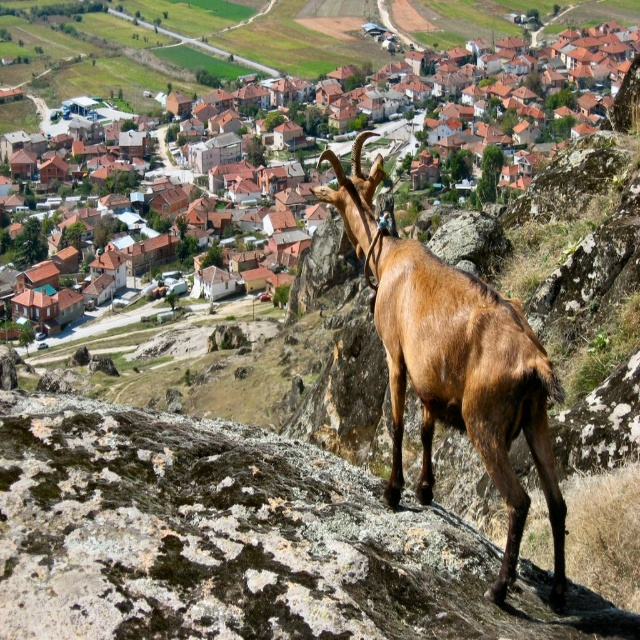Goat: (309, 131, 568, 613)
